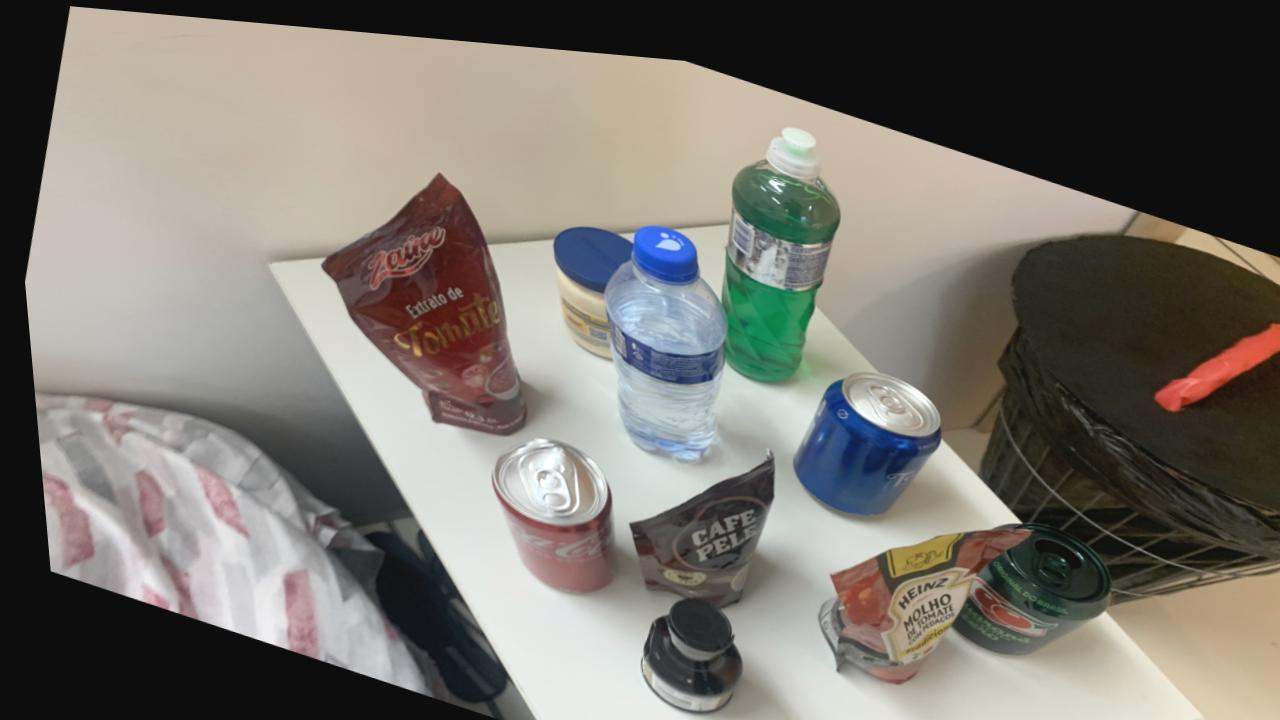Coffee-Pantry_Items: (621, 437, 768, 595)
Coke-Drinks: (483, 429, 606, 583)
Detergent-Cleanup_Items: (716, 113, 838, 369)
English_Sauce-Pantry_Items: (629, 586, 732, 701)
Guarana_Can-Drinks: (943, 505, 1102, 638)
Mayonnaise-Pantry_Items: (549, 216, 629, 347)
Tomato_Sauce-Pantry_Items: (318, 167, 520, 427), (809, 507, 1021, 667)
Tonic-Drinks: (785, 356, 935, 500)
Water_Bottle-Drinks: (600, 213, 723, 450)
